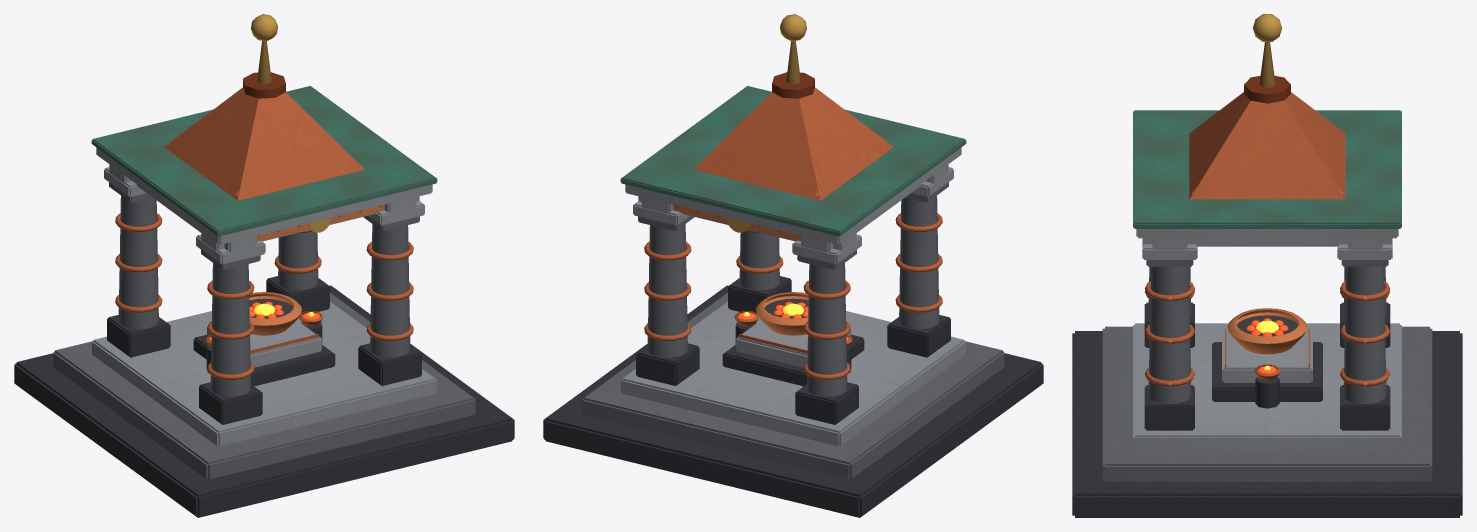
File: shrine_scale_ancestor.glb
The picture shows the model from 3 angles, left to right: view 1: azimuth 30°, elevation 25°; view 2: azimuth 150°, elevation 25°; view 3: azimuth 270°, elevation 25°; orthographic projection. The views are drawn at different scales.
Parts seen in each view (by area): view 1: shrine_scale_ancestor; view 2: shrine_scale_ancestor; view 3: shrine_scale_ancestor.
Part boxes in pixels (left/top/right/bottom): shrine_scale_ancestor: left=14, top=14, right=514, bottom=517; shrine_scale_ancestor: left=543, top=14, right=1043, bottom=517; shrine_scale_ancestor: left=1072, top=14, right=1462, bottom=517.
Bounding box in the file's own units: 5.8 × 6.92 × 5.8.
Materials: 1 (1 with a texture image).
